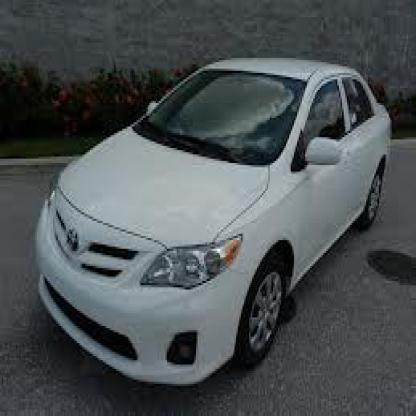Vehicle: (26, 52, 398, 403)
